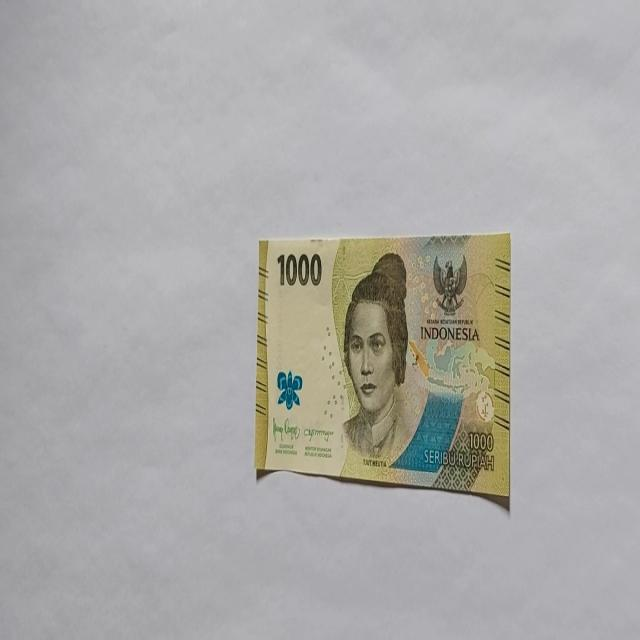seribu rupiah kertas: (254, 232, 511, 508)
